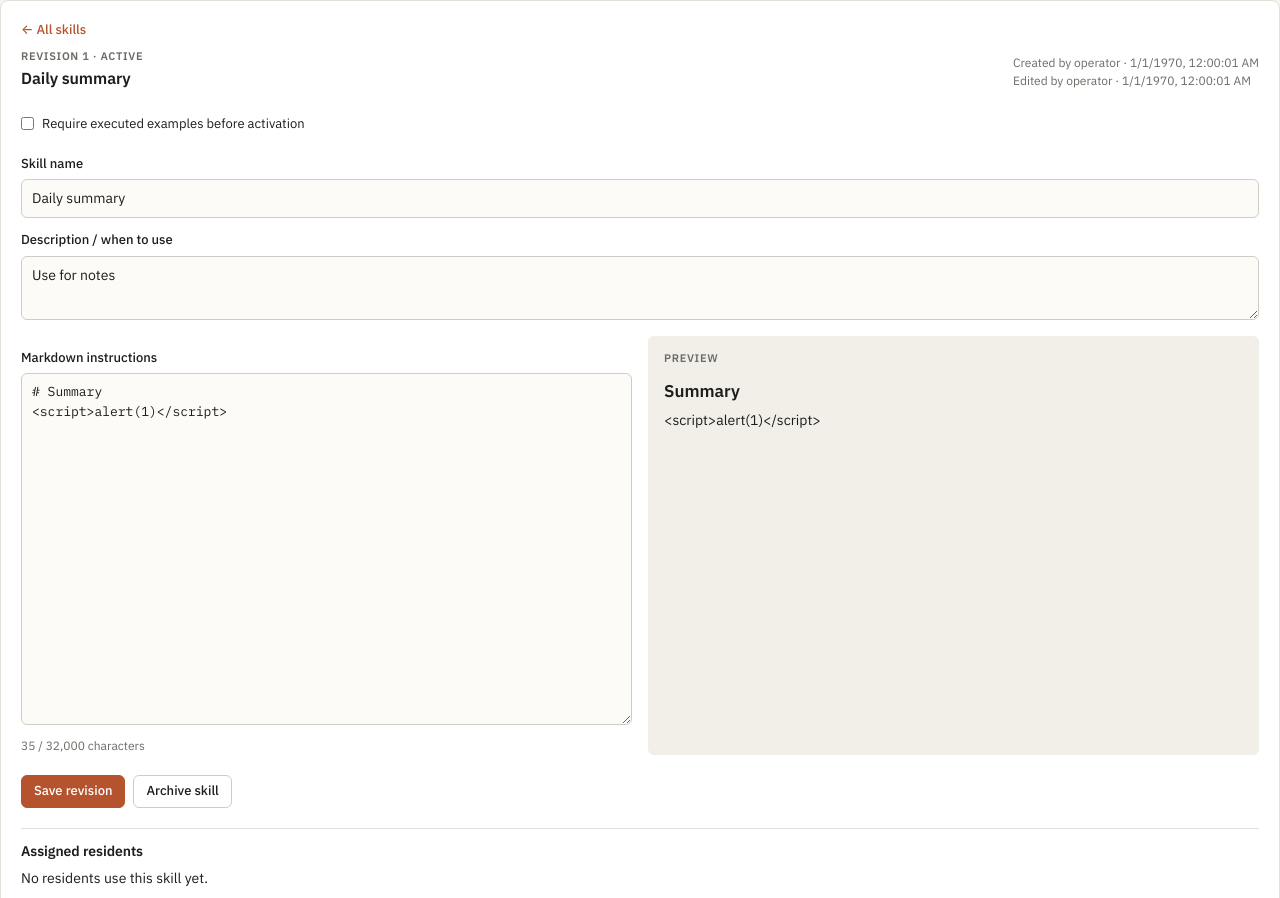
Test: retries the exact unconfirmed operation without accepting a changed draft
Replace the text in the text box labelled "Markdown instructions" with "Exact new instructions" at (326, 549), box [21,373,632,725]
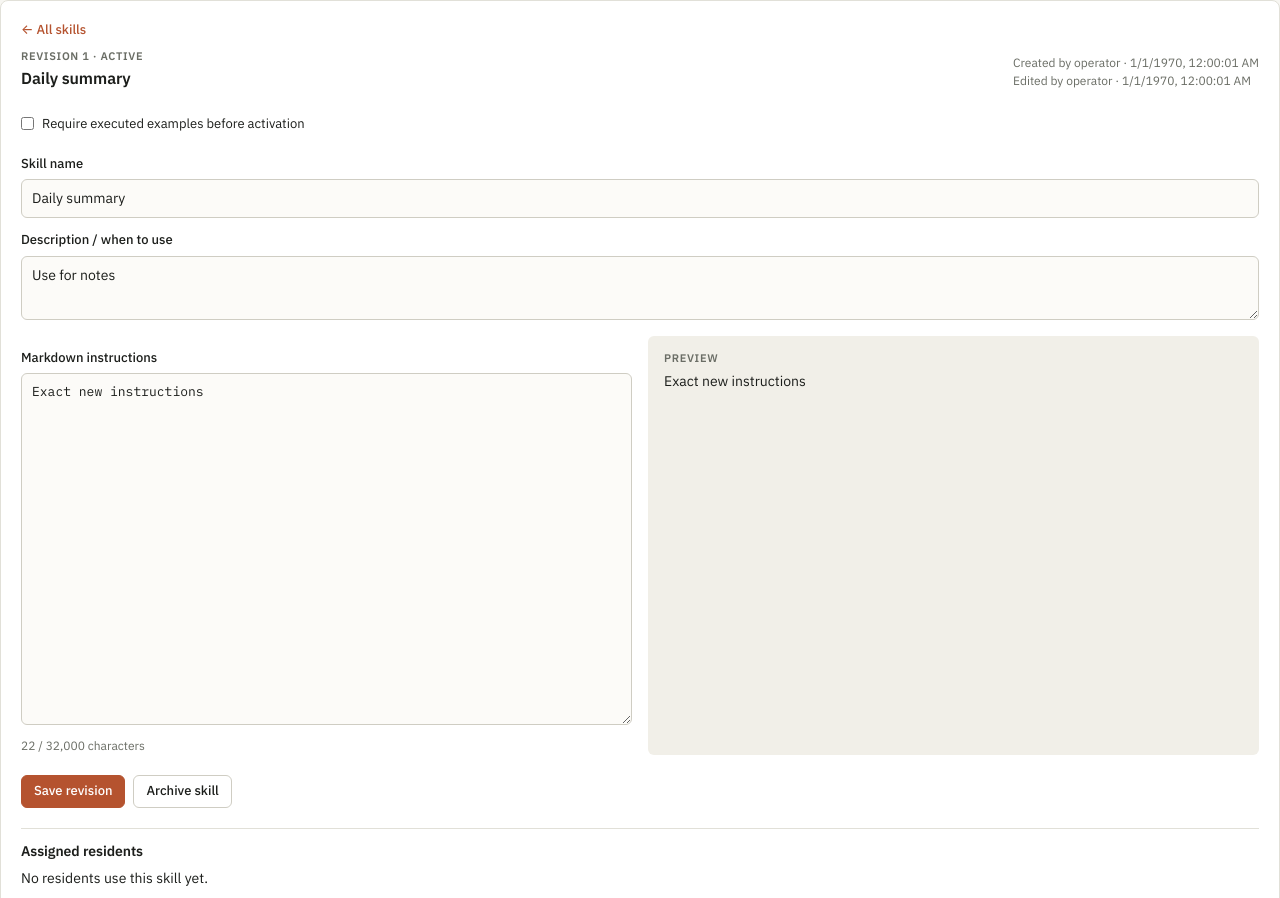
Click the button "Save revision" at (73, 791), box [21,775,126,808]
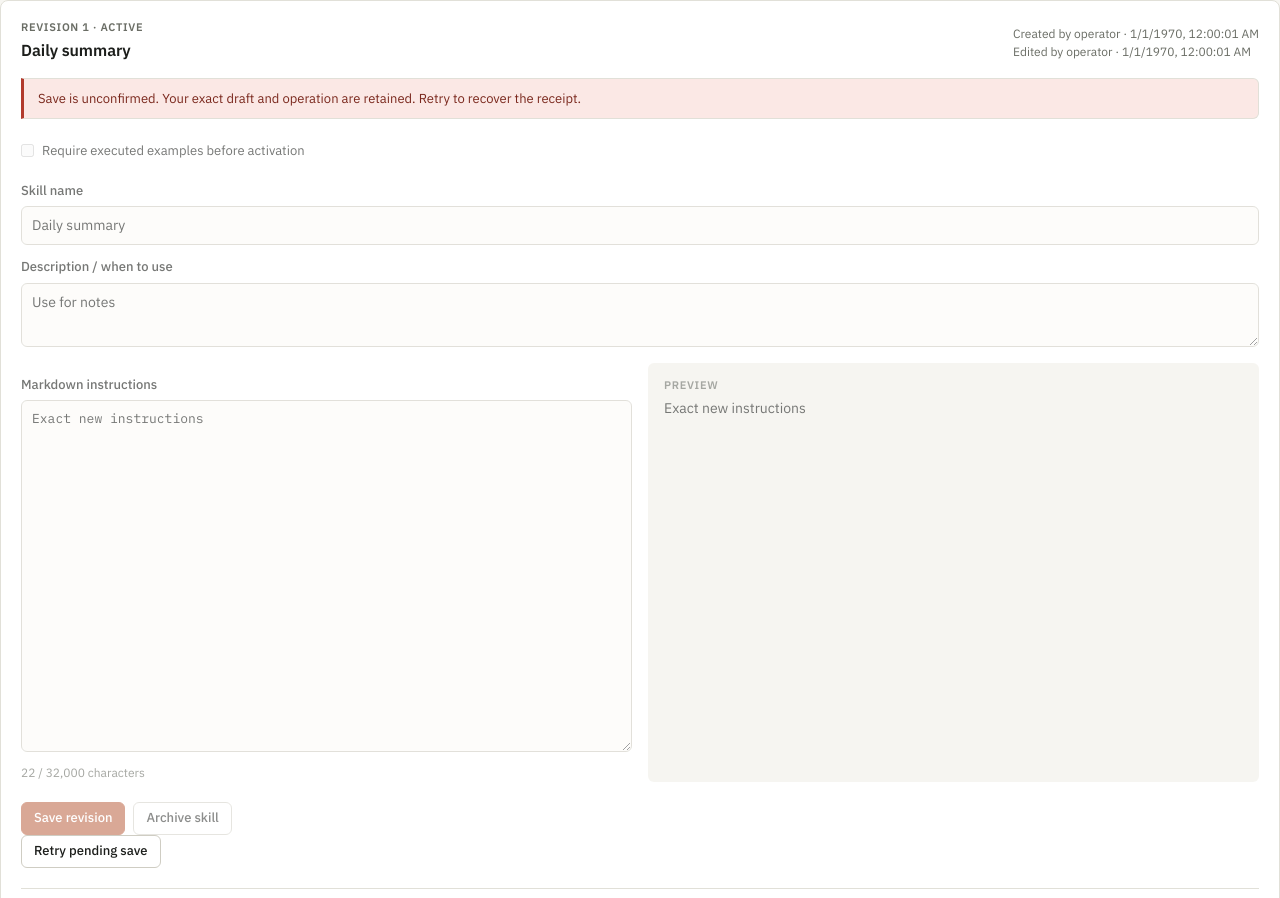
Check: the text "Save is unconfirmed" is shown, box [38,90,581,106]
Check: the element named "Markdown instructions" is disabled
Click the button "Retry pending save" at (91, 851), box [21,835,160,868]
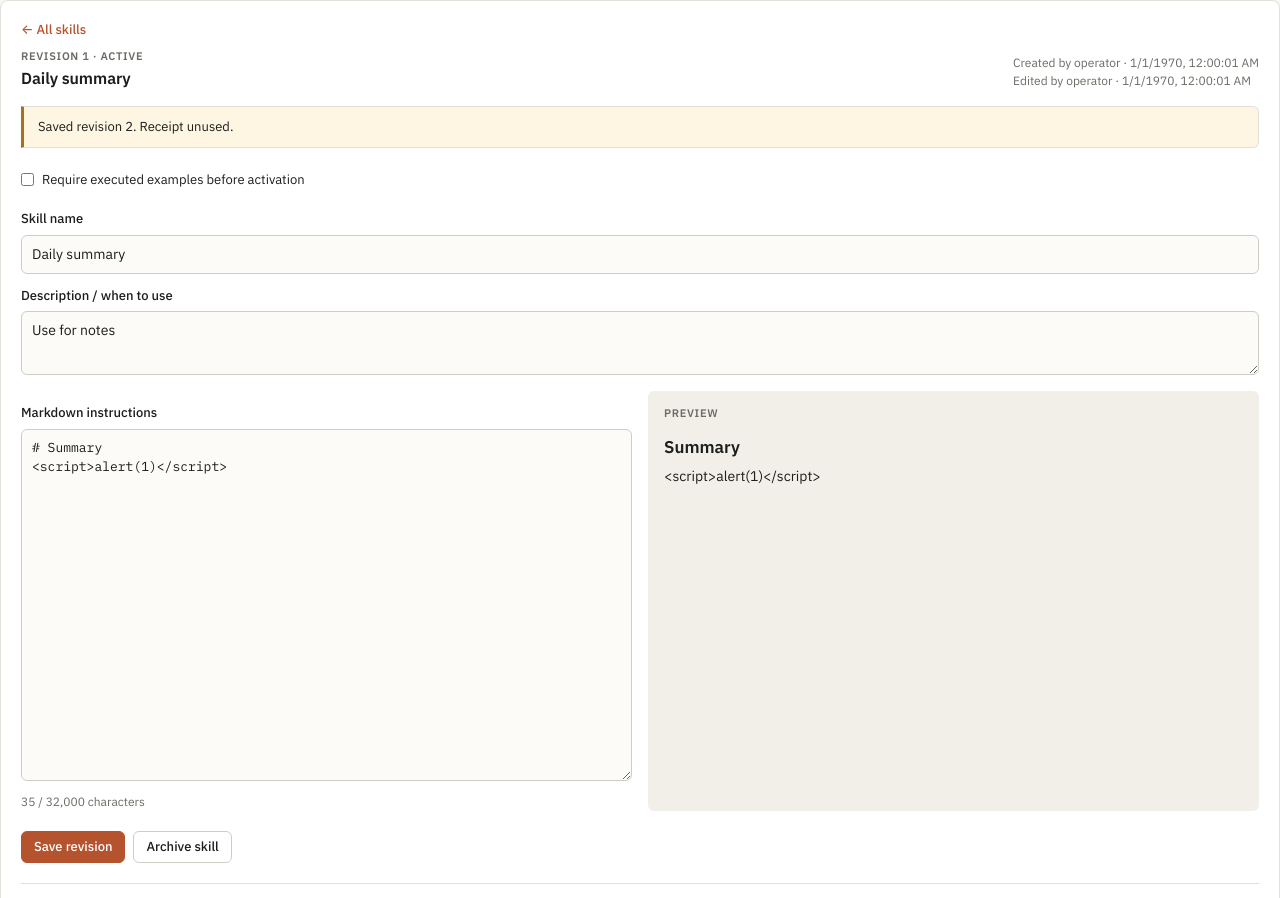
Check: the text "Saved revision 2. Receipt unused." is shown, box [21,106,1259,148]
